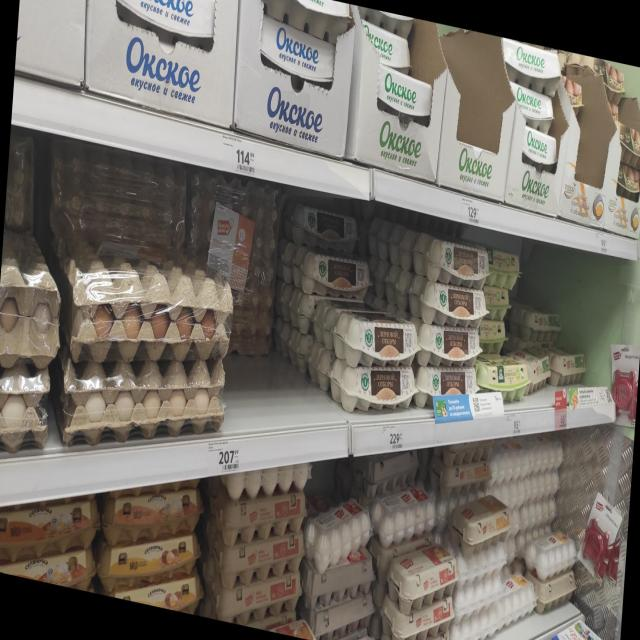organic waste: (333, 300, 422, 377), (331, 352, 419, 426), (258, 16, 338, 87), (292, 241, 374, 308), (412, 229, 494, 293), (109, 0, 218, 47), (409, 271, 489, 335), (280, 195, 363, 255), (414, 358, 482, 418), (416, 319, 485, 377), (497, 37, 563, 94), (376, 64, 433, 122), (507, 80, 556, 124), (520, 124, 558, 170)
